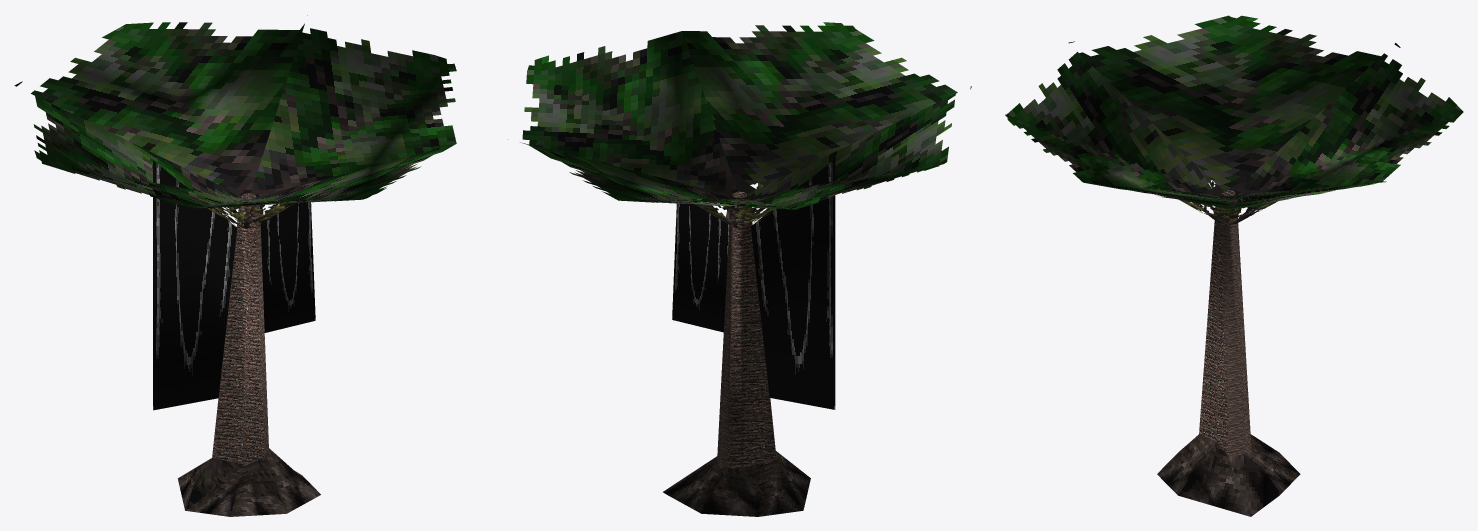
File: Pjungle3_treeZ.obj
The picture shows the model from 3 angles, left to right: view 1: azimuth 30°, elevation 25°; view 2: azimuth 150°, elevation 25°; view 3: azimuth 270°, elevation 25°; orthographic projection. The views are drawn at different scales.
Bounding box in the file's own units: 30421 × 27056 × 30421.
Materials: 5 (5 with a texture image).
